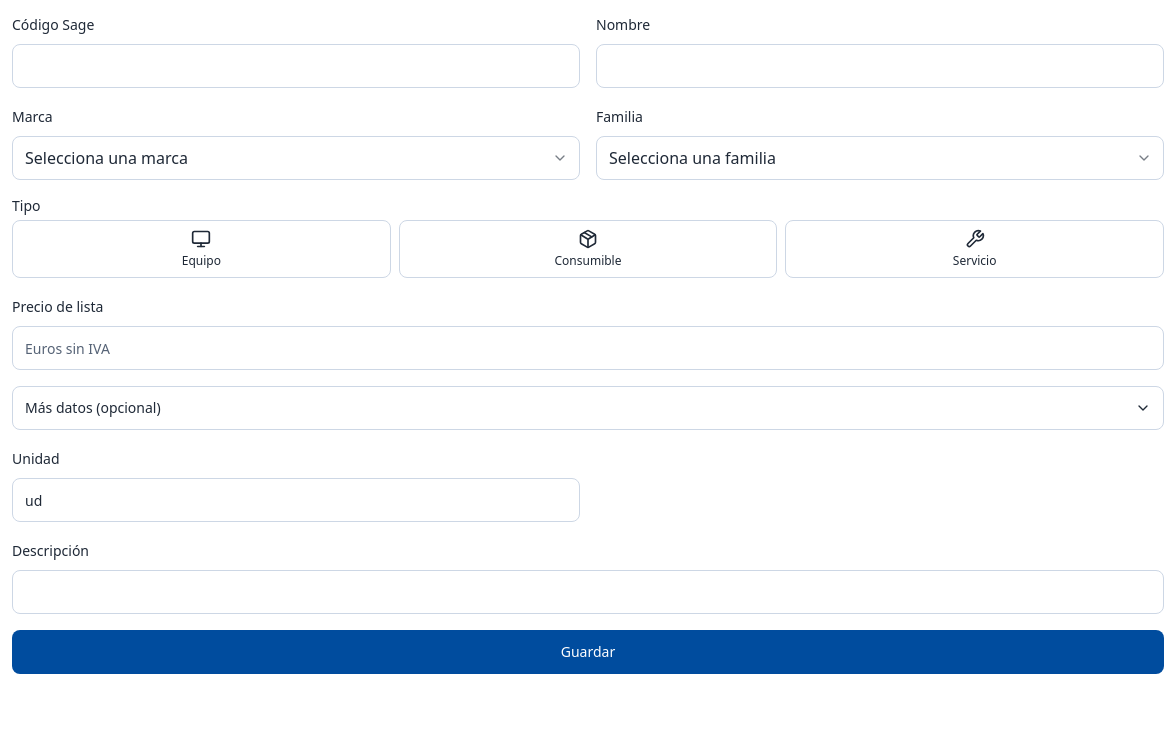
Test: ProductForm › validates required fields in Spanish
The image size is (1176, 732).
Click the button "Guardar" at (588,652), box top-left (12, 630), bottom-right (1164, 674)
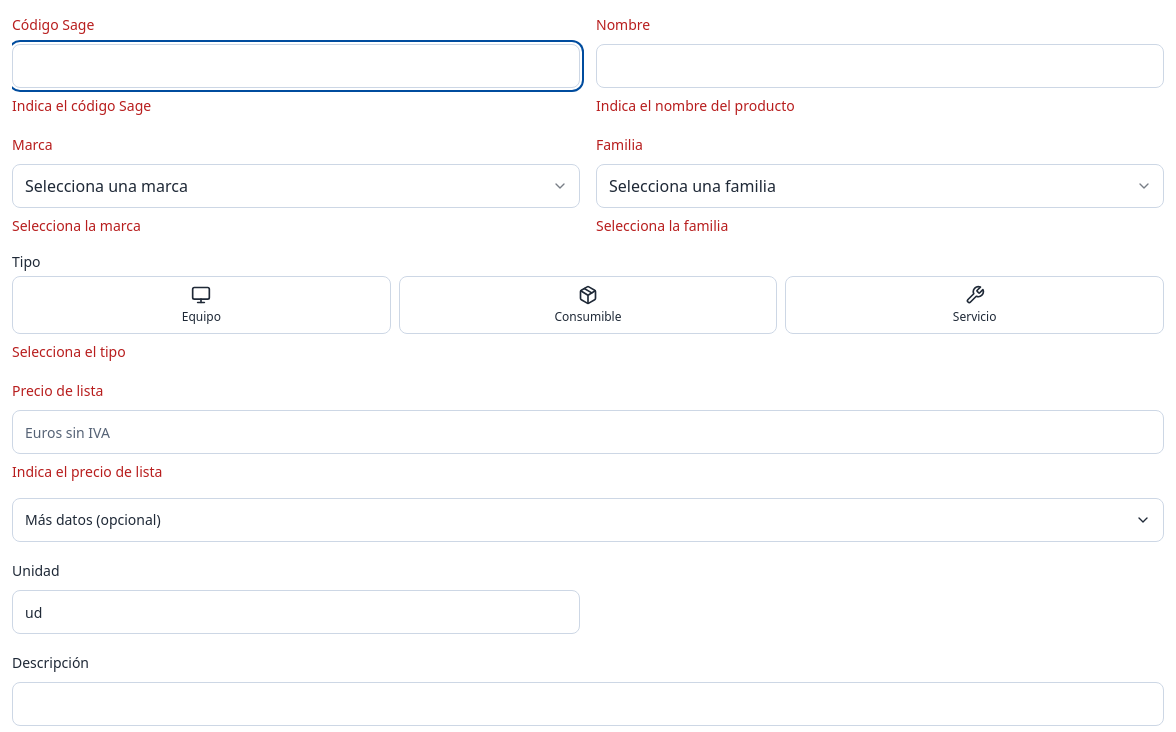
Expected: the text "Indica el código Sage" is shown, top-left (12, 96), bottom-right (151, 115)
Expected: the text "Selecciona el tipo" is shown, top-left (12, 342), bottom-right (126, 361)
Expected: the text "Indica el precio de lista" is shown, top-left (12, 462), bottom-right (162, 481)
